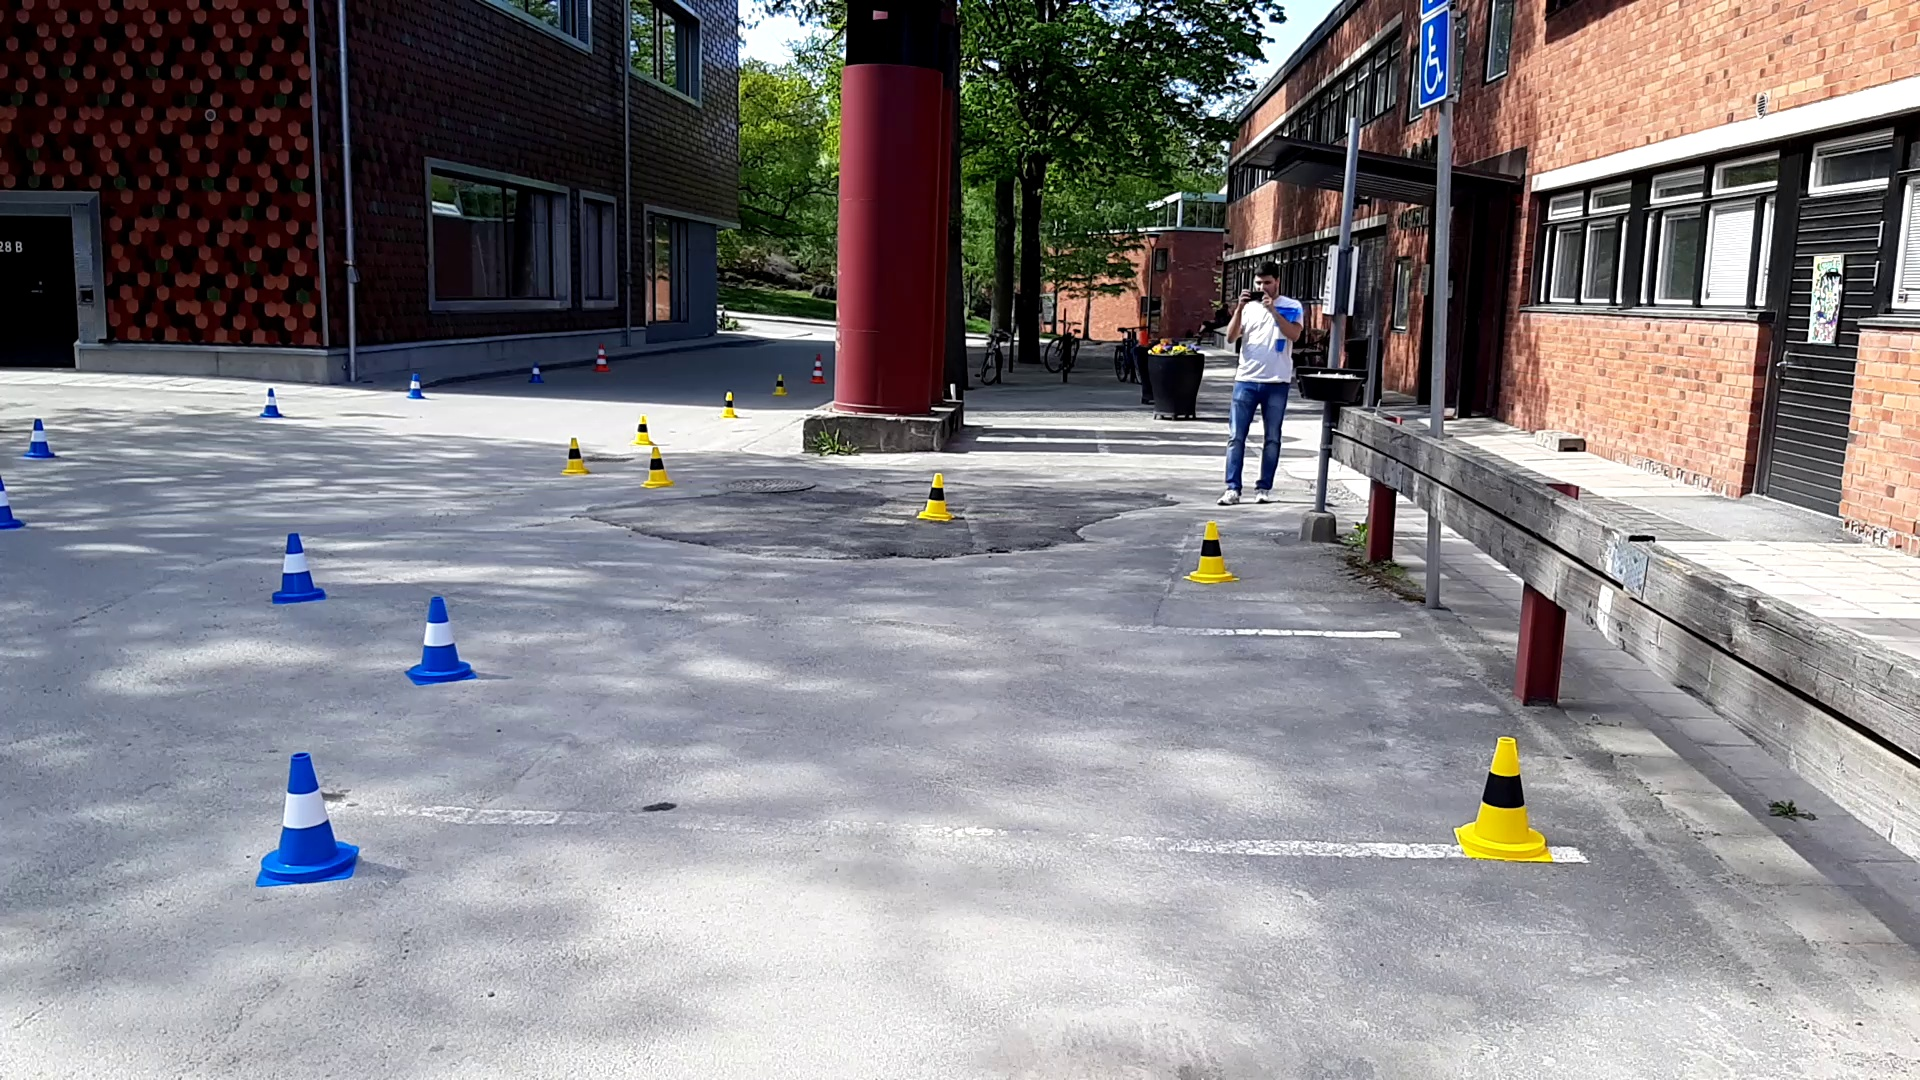Cone: (249, 752, 356, 891), (1451, 736, 1551, 862), (401, 595, 476, 695), (268, 527, 326, 605), (1183, 518, 1236, 582), (636, 444, 678, 495), (916, 469, 953, 526), (20, 419, 65, 462), (560, 434, 595, 473)
